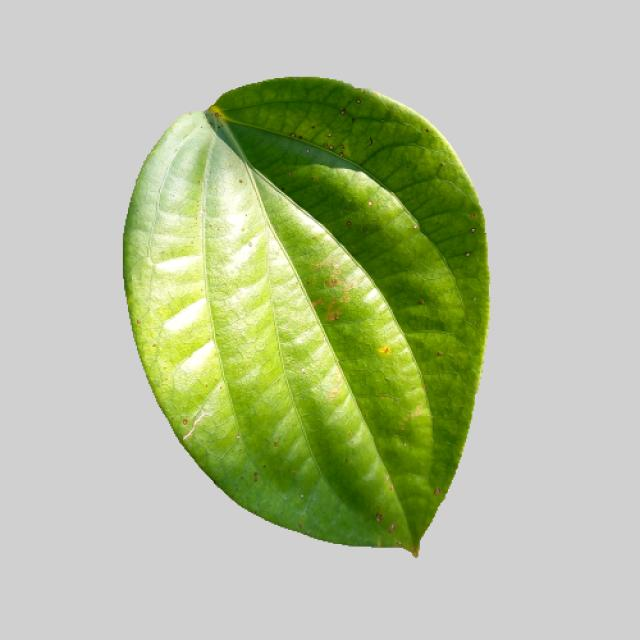healthy: (120, 74, 493, 580)
